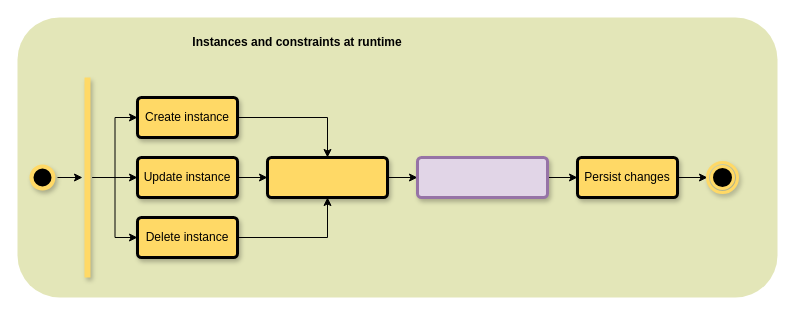
This 794x314 diagram has some shape labels left out. The shapes that lost their labels are listed below. From the top down, each one's centre as x and y in pixels, then its label:
At point 328,179: "Validate constraints integrity".
At point 483,179: "Analyze affected indirect constraints".
